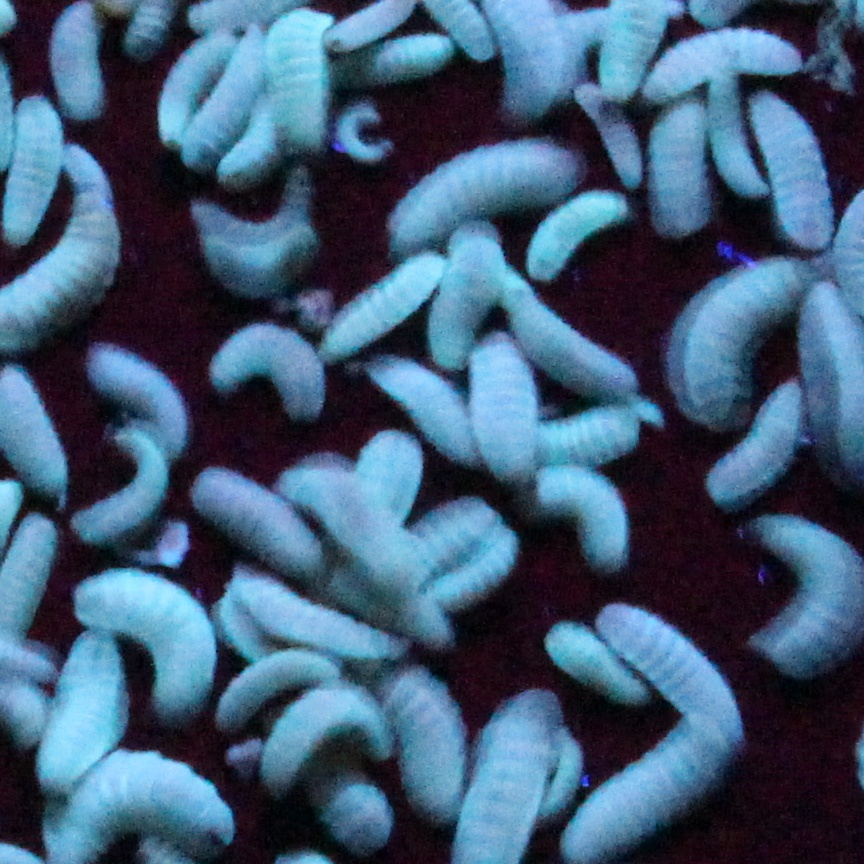larve: (663, 252, 817, 434), (62, 560, 226, 721), (383, 132, 581, 255), (588, 596, 745, 747), (63, 336, 200, 466), (736, 81, 838, 255), (461, 326, 548, 507), (259, 680, 398, 789), (637, 92, 728, 256), (177, 190, 314, 295), (362, 344, 488, 458), (63, 426, 178, 550), (704, 368, 806, 506), (316, 245, 437, 360), (521, 176, 639, 293), (391, 510, 503, 632), (145, 13, 242, 152), (188, 462, 322, 562), (526, 457, 639, 570), (630, 29, 819, 95), (203, 319, 330, 417), (258, 4, 337, 160), (537, 613, 658, 704)
